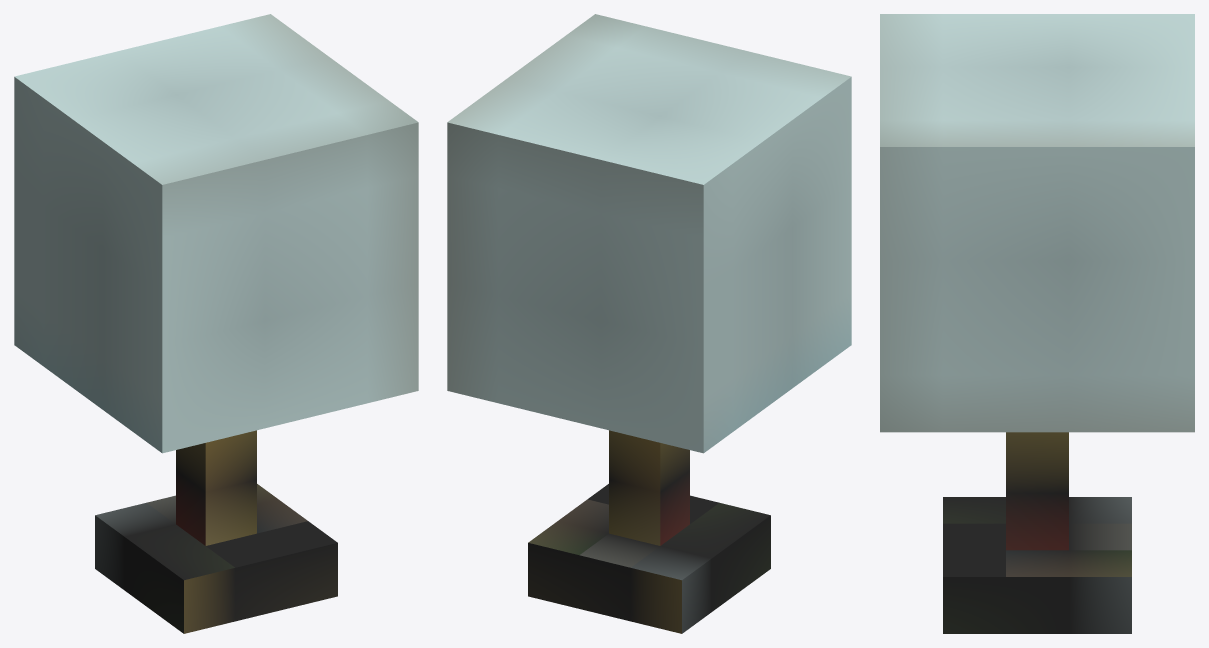
The model's file is LampSmallBlackBase_02.fbx.
3 renders of one model, left to right at view 1: azimuth 30°, elevation 25°; view 2: azimuth 150°, elevation 25°; view 3: azimuth 270°, elevation 25°, orthographic. The views are drawn at different scales.
Parts seen in each view (by area): view 1: LampSmallBlackBase_02; view 2: LampSmallBlackBase_02; view 3: LampSmallBlackBase_02.
Part boxes in pixels (<box>): LampSmallBlackBase_02: <box>14,14,418,633</box>; LampSmallBlackBase_02: <box>447,14,851,633</box>; LampSmallBlackBase_02: <box>880,14,1194,633</box>.
Bounding box in the file's own units: 25 × 25 × 45.
2 materials, 2 textured.
